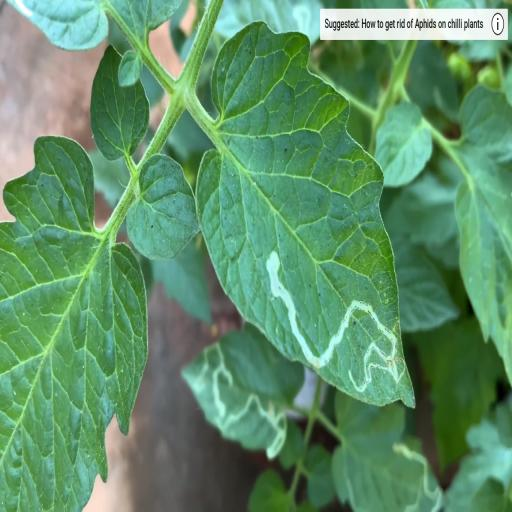Healthy: (0, 134, 150, 512), (127, 150, 201, 264)
Leaf Miner: (194, 18, 416, 410), (179, 322, 305, 460), (332, 388, 446, 512)
